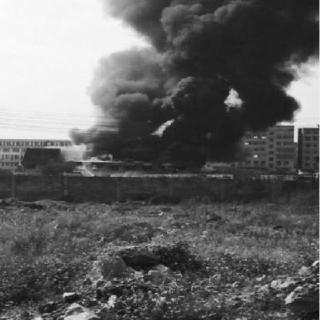Fire: (73, 150, 119, 174)
Smoke: (57, 0, 318, 158)
